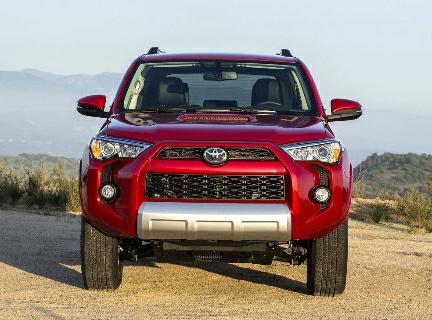丰田-4Runner: (71, 45, 362, 295)
